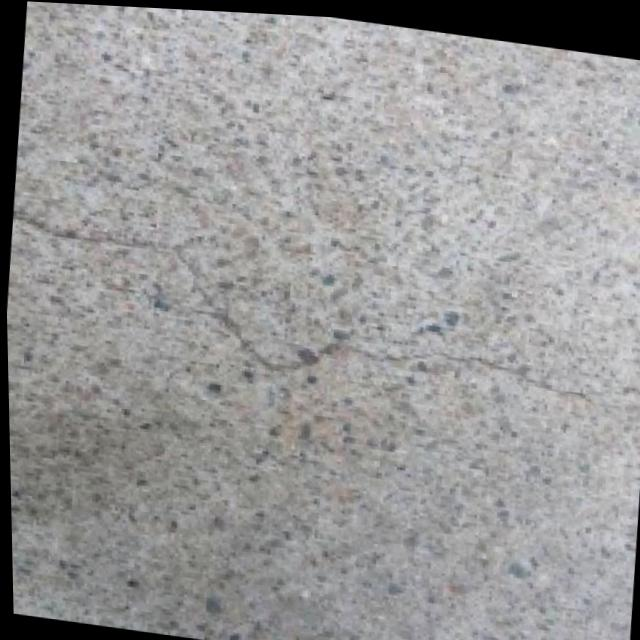Crack: (3, 174, 640, 451)
